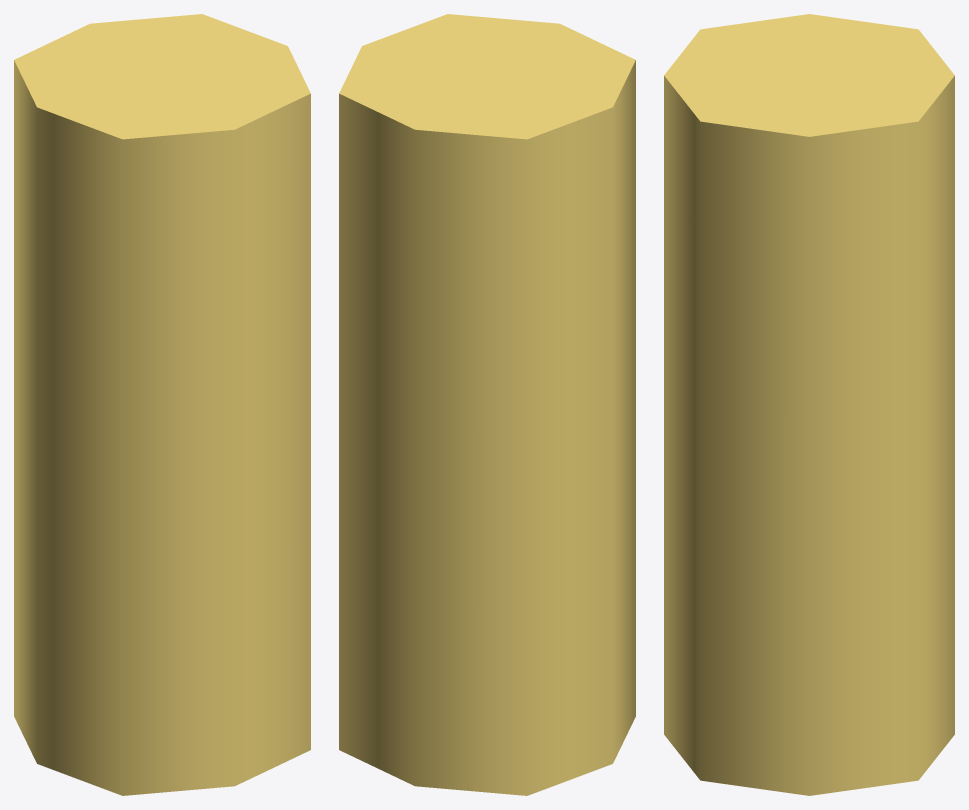
File: casing_blaster.fbx
The picture shows the model from 3 angles, left to right: view 1: azimuth 30°, elevation 25°; view 2: azimuth 150°, elevation 25°; view 3: azimuth 270°, elevation 25°; orthographic projection.
Visible parts, largest first — view 1: foamBulletA-low; view 2: foamBulletA-low; view 3: foamBulletA-low.
Part boxes in pixels (box(x1,y1,x2,y2)): foamBulletA-low: box(14, 14, 310, 795); foamBulletA-low: box(339, 14, 635, 795); foamBulletA-low: box(664, 14, 954, 795).
Size of the model in its own units: 2 by 5 by 2.
